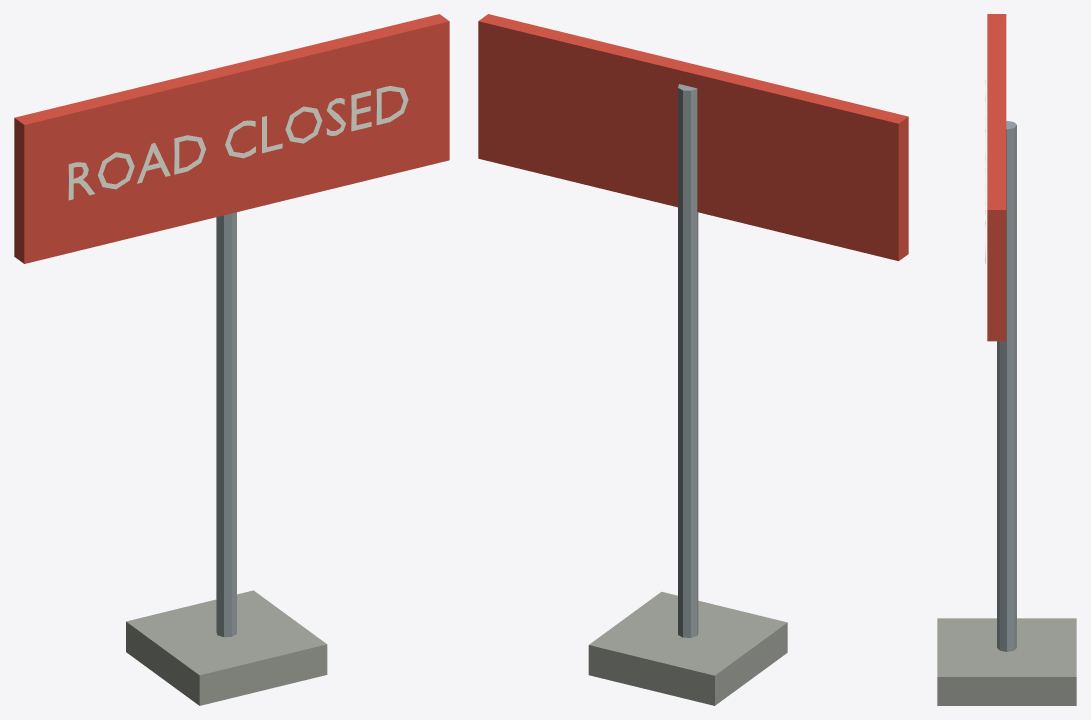
File: TR3_Sign_RoadClosed.glb
3 views of the same model, side by side, from view 1: azimuth 30°, elevation 25°; view 2: azimuth 150°, elevation 25°; view 3: azimuth 270°, elevation 25° (orthographic). The views are drawn at different scales.
Visible parts, largest first — view 1: TR3_Sign_RoadClosed; view 2: TR3_Sign_RoadClosed; view 3: TR3_Sign_RoadClosed.
Boxes of the visible parts, x1,y1,x2,y2 form: TR3_Sign_RoadClosed: (14, 14, 449, 705); TR3_Sign_RoadClosed: (478, 14, 908, 705); TR3_Sign_RoadClosed: (937, 14, 1076, 705).
Bounding box in the file's own units: 1.6 × 2.15 × 0.48.
